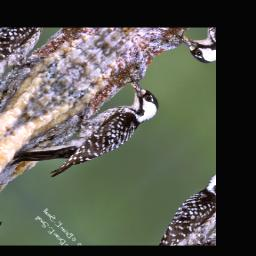Woodpecker: (9, 62, 167, 207)
